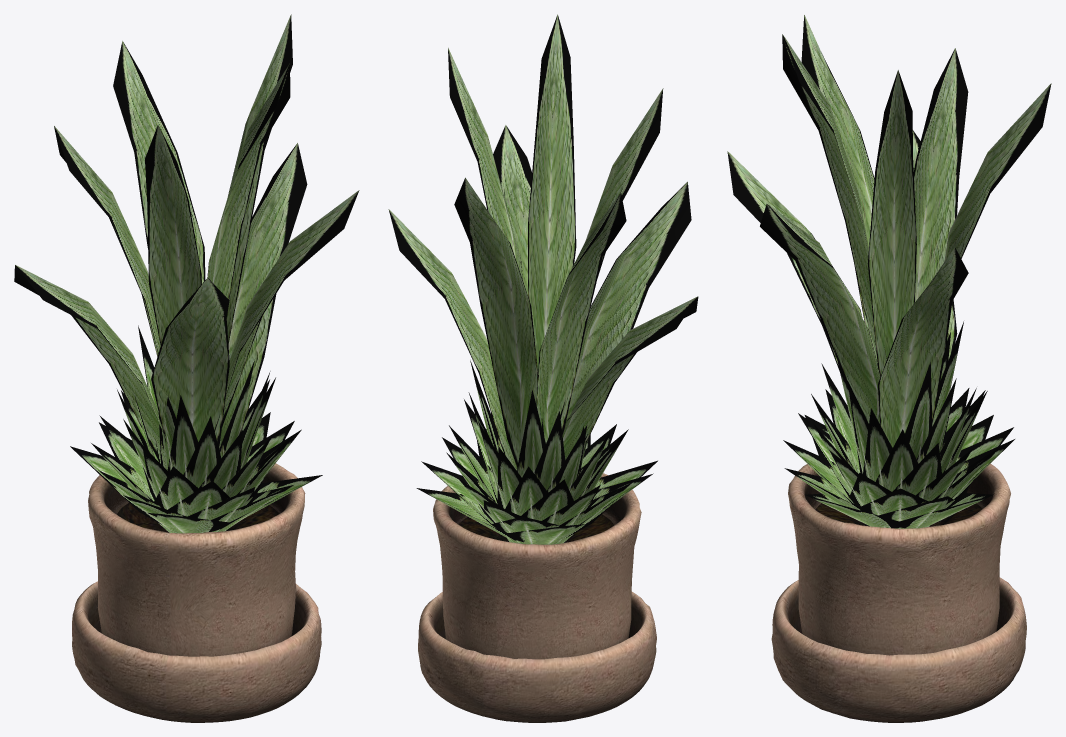
Rendered from indoor_plant.dae.
3 views of the same model, side by side, from view 1: azimuth 30°, elevation 25°; view 2: azimuth 150°, elevation 25°; view 3: azimuth 270°, elevation 25° (orthographic). The views are drawn at different scales.
Parts seen in each view (by area): view 1: Low-Poly_Plant__001, Low-Poly_Plant_; view 2: Low-Poly_Plant__001, Low-Poly_Plant_; view 3: Low-Poly_Plant__001, Low-Poly_Plant_.
Part boxes in pixels (bbox=[...]): Low-Poly_Plant__001: bbox=[14, 14, 359, 533]; Low-Poly_Plant_: bbox=[72, 463, 321, 722]; Low-Poly_Plant__001: bbox=[388, 14, 698, 544]; Low-Poly_Plant_: bbox=[418, 473, 656, 722]; Low-Poly_Plant__001: bbox=[727, 15, 1051, 528]; Low-Poly_Plant_: bbox=[771, 463, 1026, 722].
Size of the model in its own units: 0.6533 by 0.5929 by 1.35.
2 materials, 2 textured.
